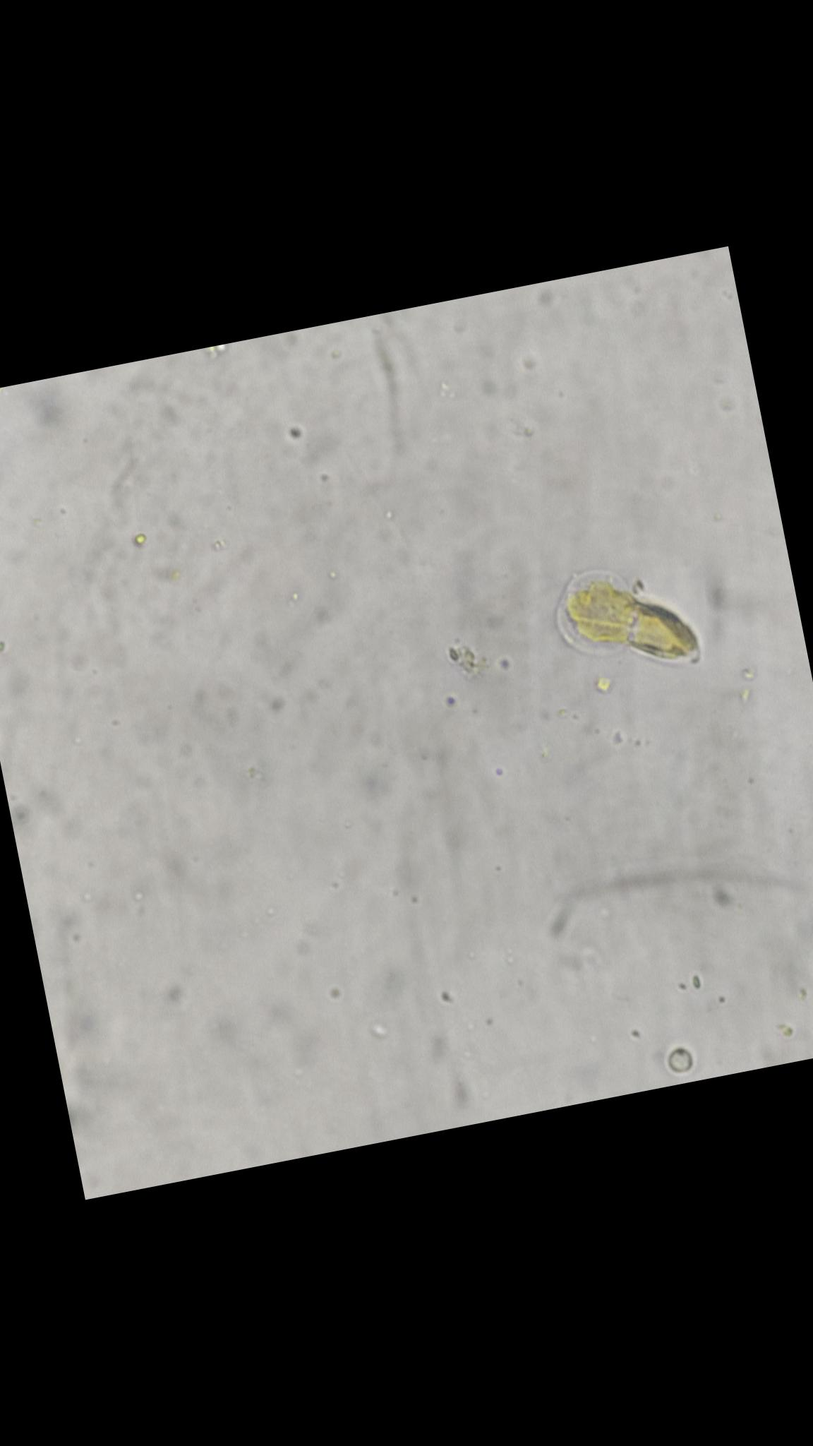Euglena: (545, 545, 713, 696)
